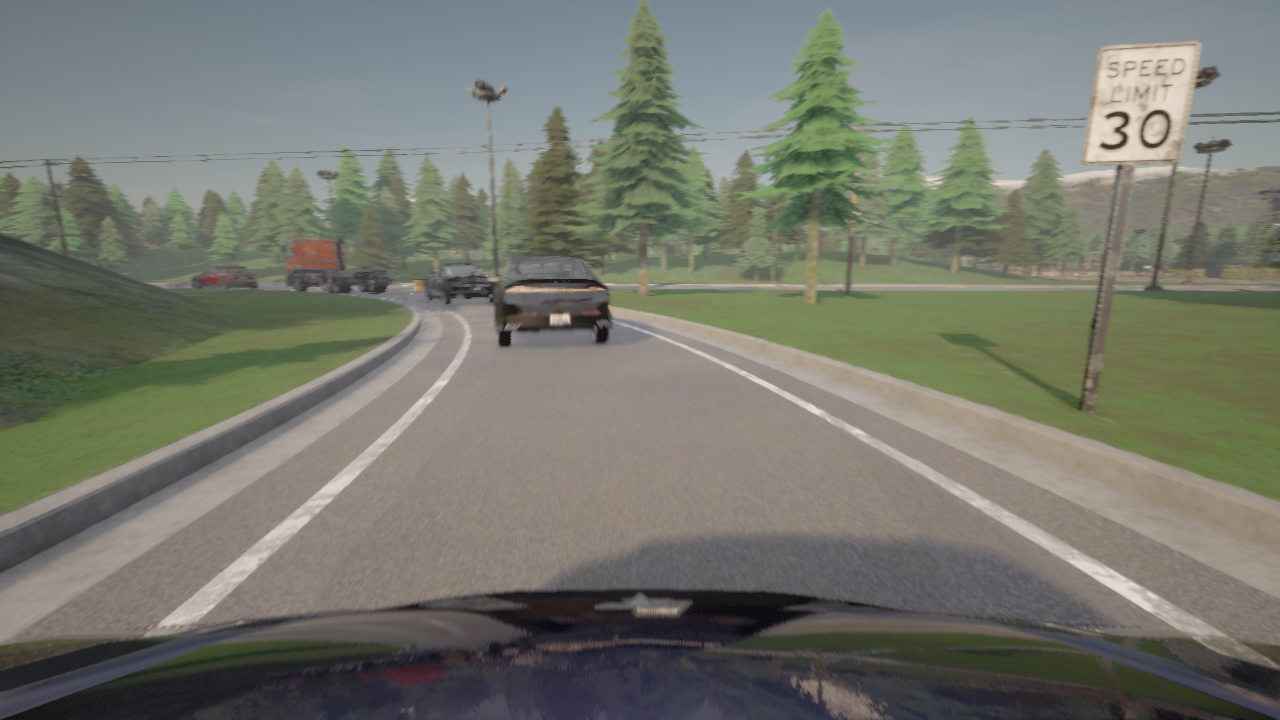cyclist: (0, 588, 1279, 719), (486, 256, 611, 347), (280, 238, 391, 294), (424, 262, 495, 304), (191, 266, 257, 289)
